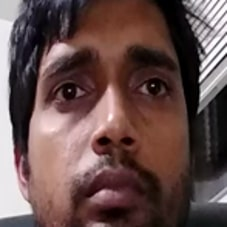drowsy: (41, 40, 180, 213)
